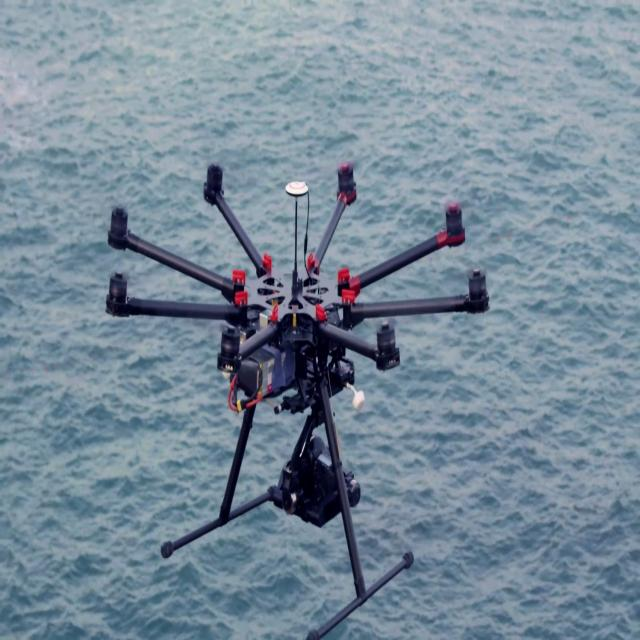drone: (65, 123, 499, 622)
